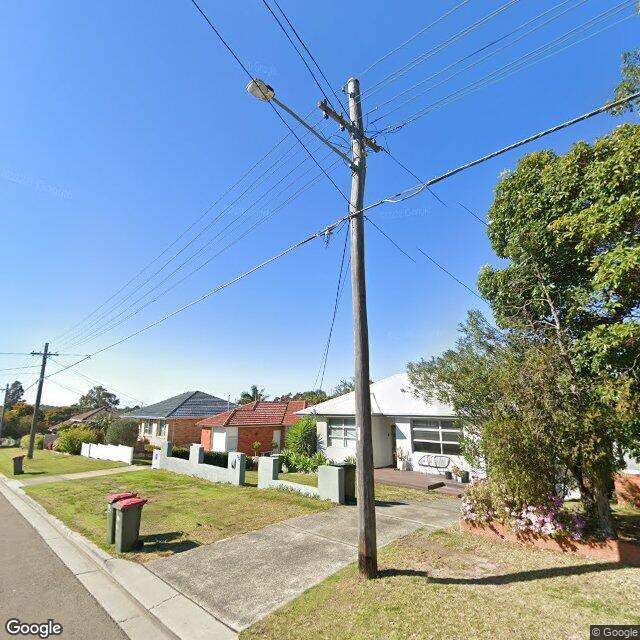crossarm: (317, 99, 388, 155), (31, 351, 59, 357), (0, 388, 14, 391)
streetlight: (245, 78, 362, 172)
timber-pole: (346, 77, 378, 576), (28, 342, 50, 458), (0, 384, 9, 436)
